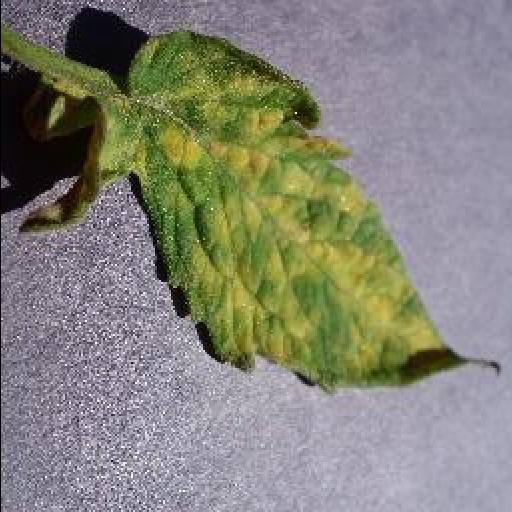disease_tomato: (20, 36, 500, 398)
